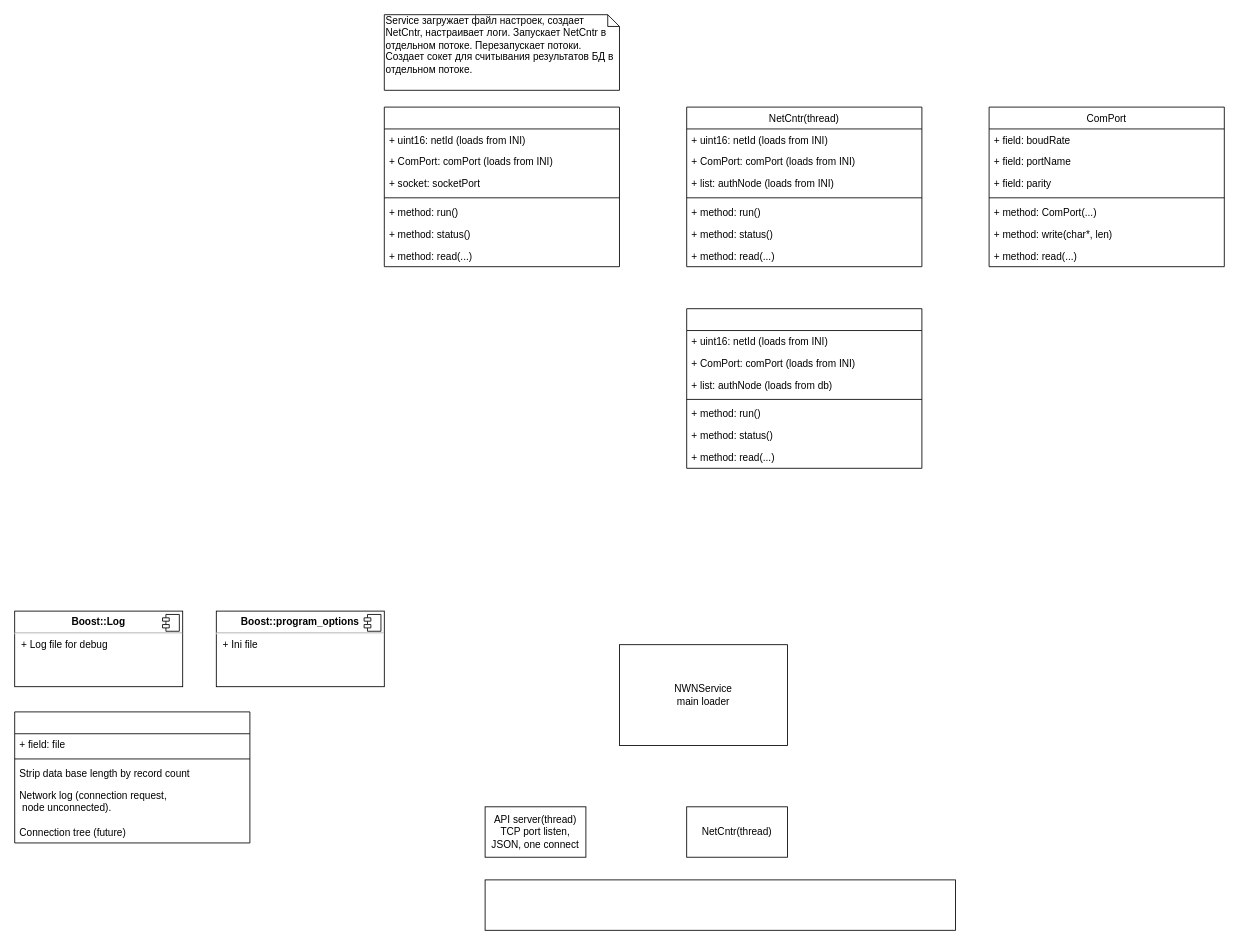
Some shapes in this 1239 by 945 pixel diagram are drawn without their labels. The shapes that lost their labels are listed below. From the top down, each one's box as (x1, y1, x2, y2) in pixels, then its label:
(383, 106, 620, 267): Service
(686, 308, 922, 468): socket(thread)
(14, 711, 250, 843): Database. SqlLite
(484, 879, 956, 930): DB sqllite Configuration, auth node list, measured data (not history), journal
